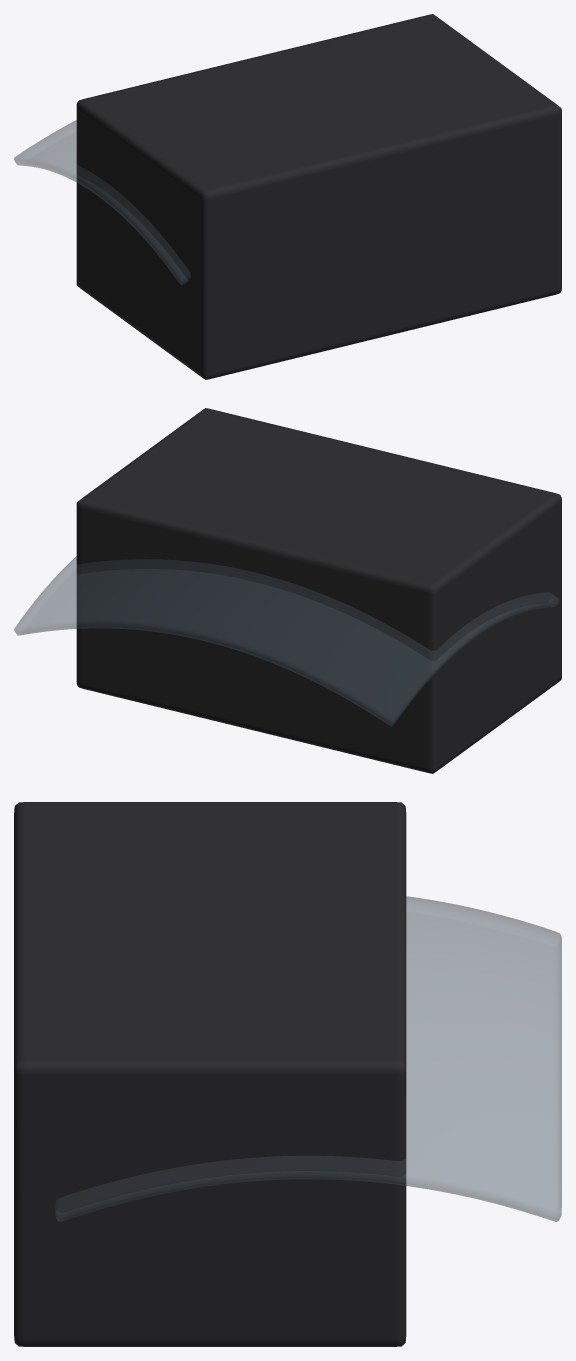
Rendered from headlamp_right.glb.
3 views of the same model, one above another, from view 1: azimuth 30°, elevation 25°; view 2: azimuth 150°, elevation 25°; view 3: azimuth 270°, elevation 25° (orthographic). The views are drawn at different scales.
Visible parts, largest first — view 1: HEADLAMP_BUCKET_RIGHT, HEADLAMP_LENS_RIGHT; view 2: HEADLAMP_BUCKET_RIGHT, HEADLAMP_LENS_RIGHT; view 3: HEADLAMP_BUCKET_RIGHT, HEADLAMP_LENS_RIGHT.
Boxes of the visible parts, left/top/right/bottom form: HEADLAMP_BUCKET_RIGHT: left=76, top=14, right=561, bottom=379; HEADLAMP_LENS_RIGHT: left=14, top=120, right=190, bottom=284; HEADLAMP_BUCKET_RIGHT: left=76, top=408, right=561, bottom=773; HEADLAMP_LENS_RIGHT: left=14, top=556, right=559, bottom=726; HEADLAMP_BUCKET_RIGHT: left=14, top=802, right=406, bottom=1346; HEADLAMP_LENS_RIGHT: left=54, top=896, right=561, bottom=1221.
Bounding box in the file's own units: 0.3386 × 0.16 × 0.2793.
